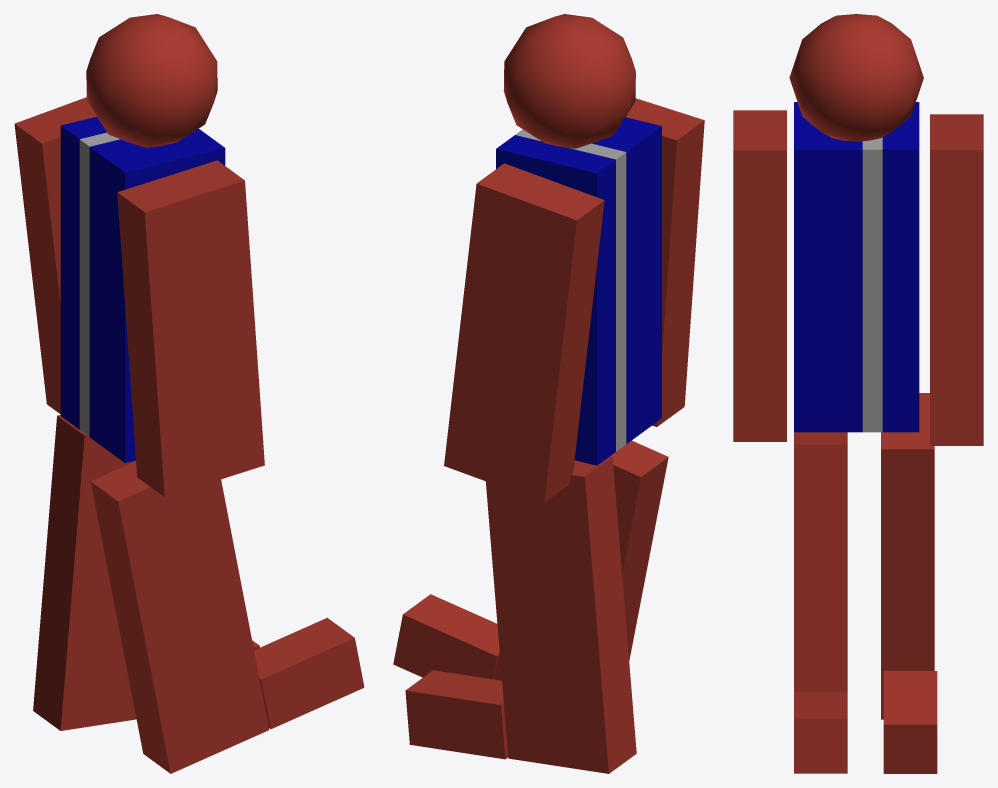
File: player_000011.obj
3 views of the same model, side by side, from view 1: azimuth 30°, elevation 25°; view 2: azimuth 150°, elevation 25°; view 3: azimuth 270°, elevation 25° (orthographic). The views are drawn at different scales.
Parts seen in each view (by area): view 1: Cube.005, Cube.001, Cube, Cube.002, Icosphere, Cube.006, Cube.003; view 2: Cube.006, Cube.002, Cube, Icosphere, Cube.005, Cube.004, Cube.003, Cube.001; view 3: Cube, Cube.006, Cube.005, Cube.001, Cube.002, Icosphere, Cube.004, Cube.003.
Boxes of the visible parts, x1,y1,x2,y2 form: Cube.005: (117, 160, 264, 497); Cube.001: (90, 461, 269, 773); Cube: (60, 116, 225, 462); Cube.002: (33, 415, 136, 730); Icosphere: (86, 14, 217, 147); Cube.006: (14, 97, 96, 413); Cube.003: (254, 617, 364, 728); Cube.006: (444, 163, 604, 502); Cube.002: (485, 456, 636, 773); Cube: (496, 117, 661, 465); Icosphere: (504, 14, 635, 148); Cube.005: (625, 98, 704, 426); Cube.004: (405, 670, 508, 759); Cube.003: (393, 594, 499, 679); Cube.001: (494, 440, 668, 680); Cube: (794, 102, 919, 432); Cube.006: (930, 114, 983, 445); Cube.005: (733, 110, 786, 441); Cube.001: (794, 432, 847, 692); Cube.002: (881, 393, 934, 719); Icosphere: (789, 14, 923, 141); Cube.004: (883, 671, 937, 773); Cube.003: (794, 692, 847, 773).
Bounding box in the file's own units: 1.06 × 2.85 × 0.9137.
